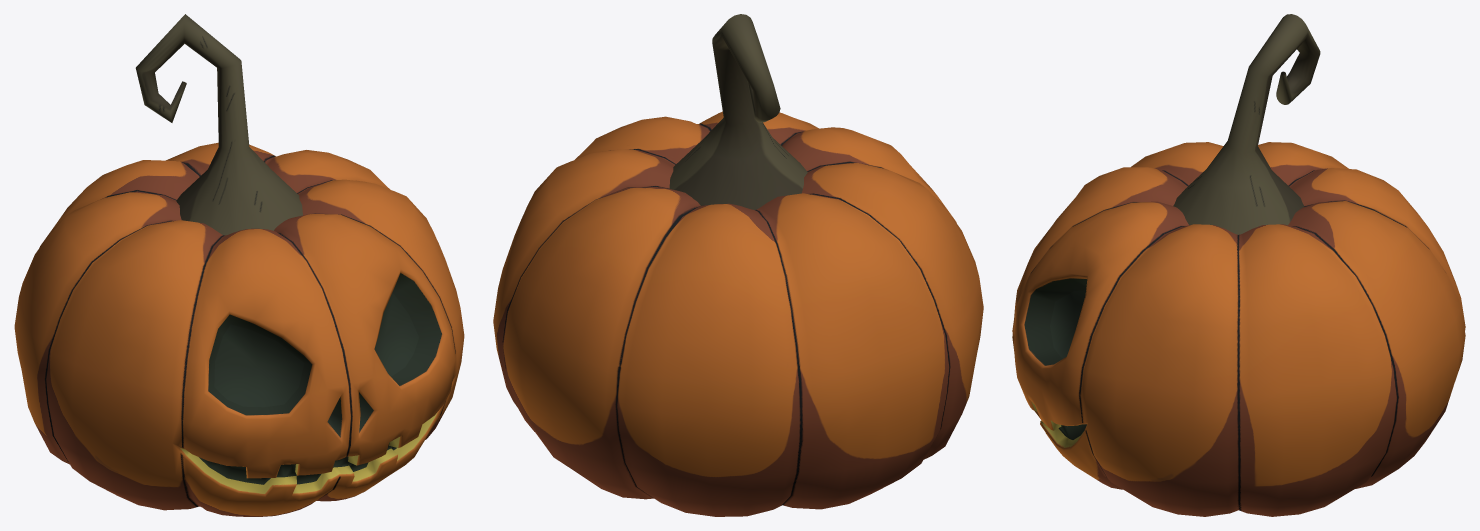
The model's file is Pumpkin.FBX.
3 renders of one model, left to right at view 1: azimuth 30°, elevation 25°; view 2: azimuth 150°, elevation 25°; view 3: azimuth 270°, elevation 25°, orthographic. The views are drawn at different scales.
Parts seen in each view (by area): view 1: default; view 2: default; view 3: default.
Part boxes in pixels (x1,y1,x2,y2): default: (14, 14, 464, 516); default: (493, 14, 983, 516); default: (1012, 14, 1465, 516).
Bounding box in the file's own units: 169 × 180 × 169.
